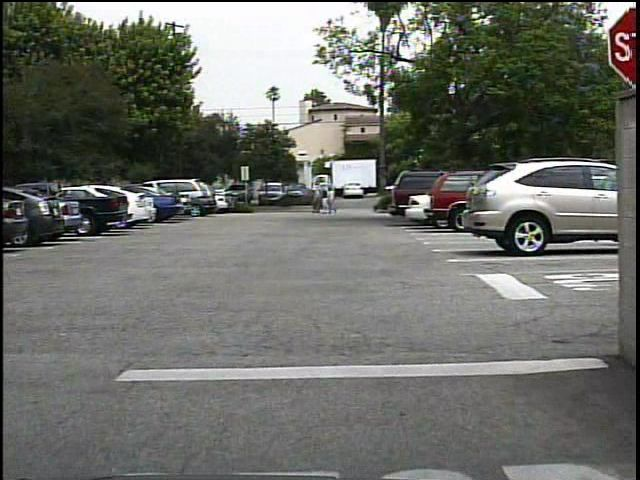person: (325, 186, 342, 216), (308, 185, 324, 215), (327, 186, 328, 217)
